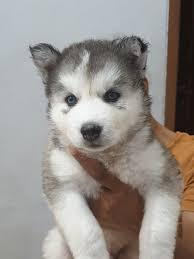Bulldog: (22, 26, 185, 255)
